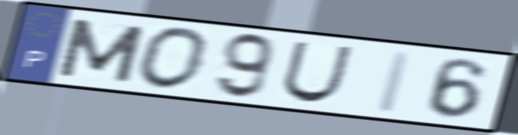6: (425, 56, 492, 122)
9: (213, 31, 278, 102)
I: (371, 47, 417, 116)
M: (53, 16, 149, 85)
O: (134, 25, 214, 92)
U: (278, 39, 357, 105)
